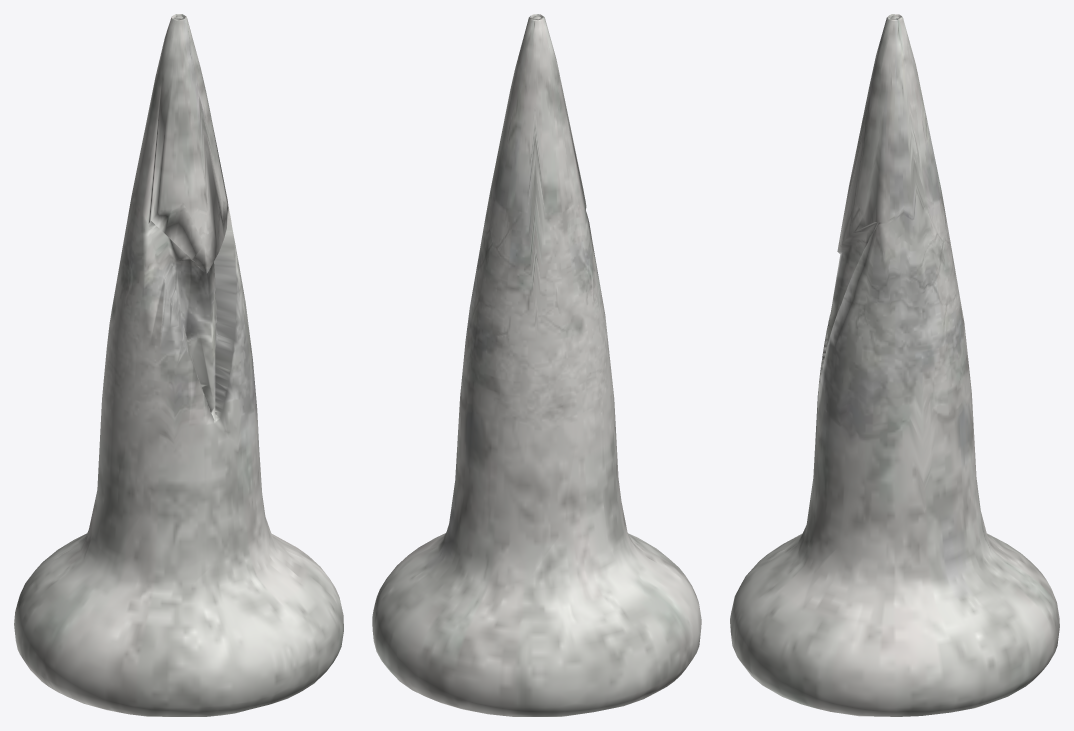
Rendered from Serpentina_king_white.glb.
3 renders of one model, left to right at view 1: azimuth 30°, elevation 25°; view 2: azimuth 150°, elevation 25°; view 3: azimuth 270°, elevation 25°, orthographic.
Parts seen in each view (by area): view 1: Serpentina_king_white; view 2: Serpentina_king_white; view 3: Serpentina_king_white.
Part boxes in pixels (x1,y1,x2,y2): Serpentina_king_white: (14,14,343,716); Serpentina_king_white: (372,14,701,716); Serpentina_king_white: (730,14,1059,716).
Size of the model in its own units: 0.0454 by 0.0969 by 0.0454.
1 material, 1 textured.
